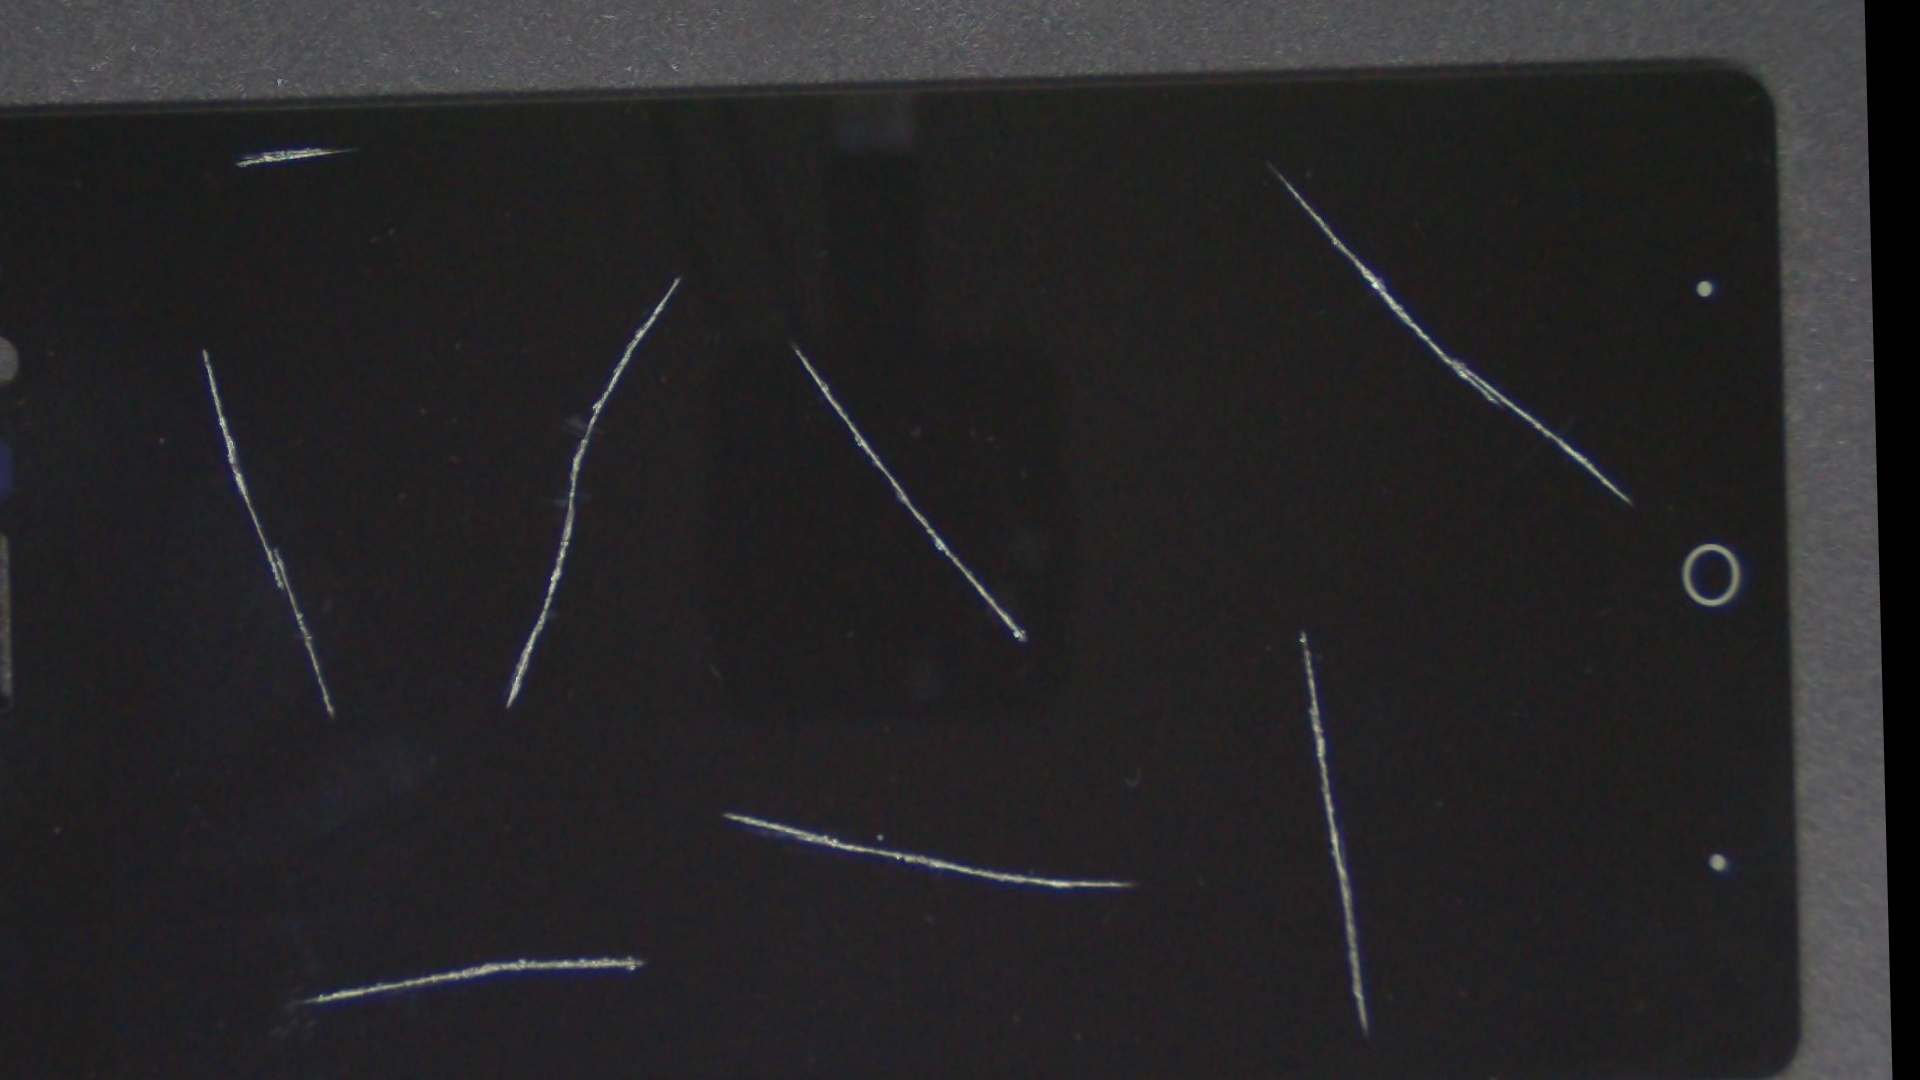oil: (576, 265, 1890, 996), (290, 367, 1167, 1080), (216, 444, 940, 1080), (320, 133, 1262, 559), (560, 32, 1871, 299), (265, 100, 1092, 450), (26, 149, 378, 546), (76, 46, 525, 248)
